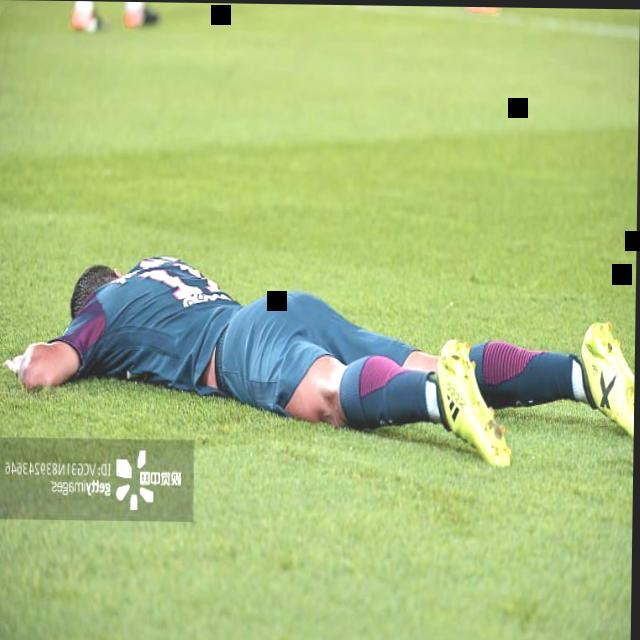Fall-Detected: (23, 211, 638, 453)
